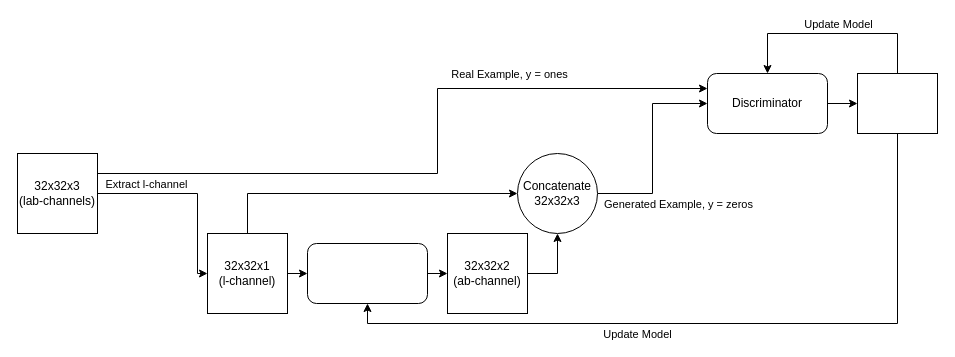
The diagram is 955 pixels wide and 357 high, and some of its shapes have lost their labels. The centre of each missing label's shape, as x and y in pixels:
"Binary Classification (0/1)" belongs at pixel 897 103.
"Generator" belongs at pixel 367 273.
